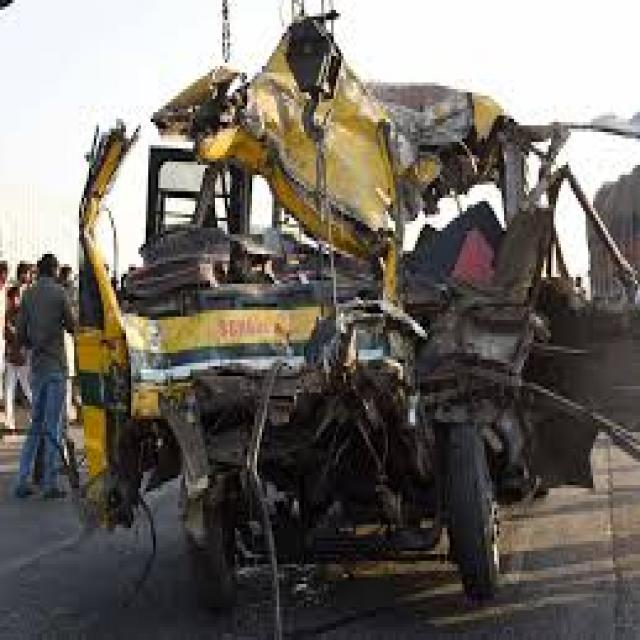accident: (52, 13, 640, 604)
